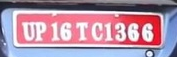1: (50, 21, 61, 43), (104, 21, 114, 42)
3: (113, 21, 128, 43)
6: (140, 21, 156, 43), (128, 21, 142, 43), (60, 21, 73, 42)
C: (91, 21, 105, 42)
P: (35, 21, 48, 42)
T: (75, 21, 91, 42)
U: (20, 21, 36, 42)
